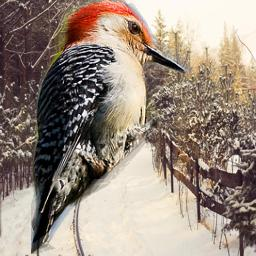Woodpecker: (31, 0, 194, 254)
